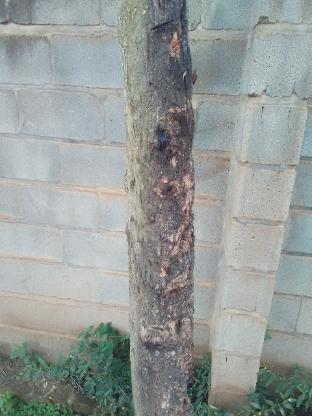tree: (105, 0, 206, 416)
